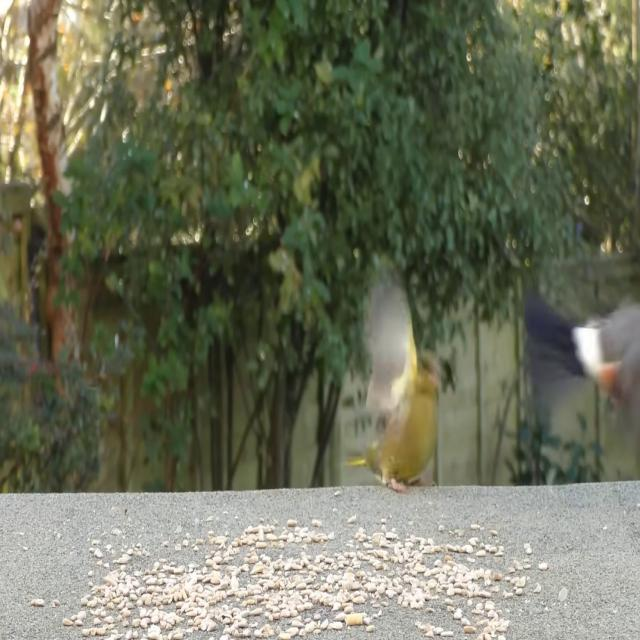bird: (346, 277, 442, 504), (523, 294, 632, 428)
